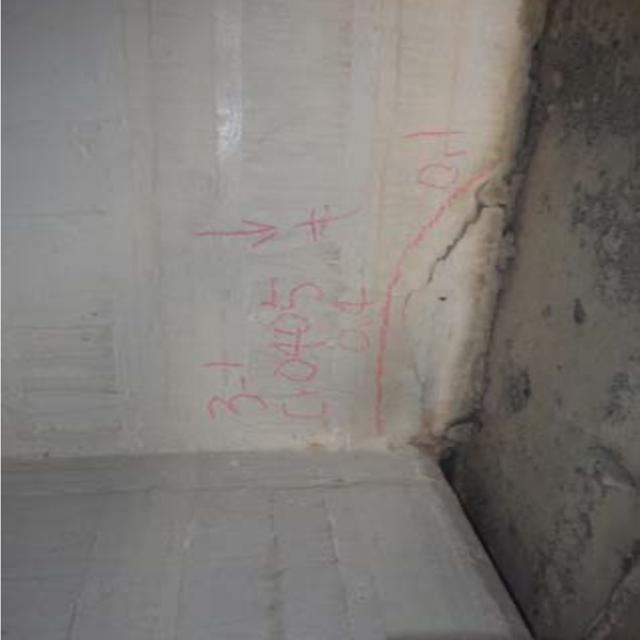crack: (418, 14, 526, 427)
